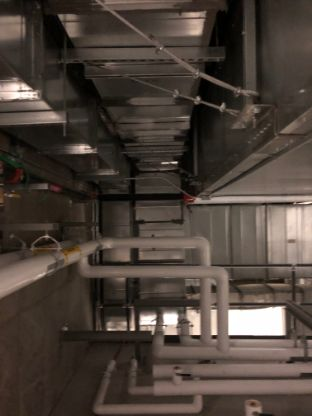Duct: (49, 2, 223, 173), (2, 2, 132, 193)
